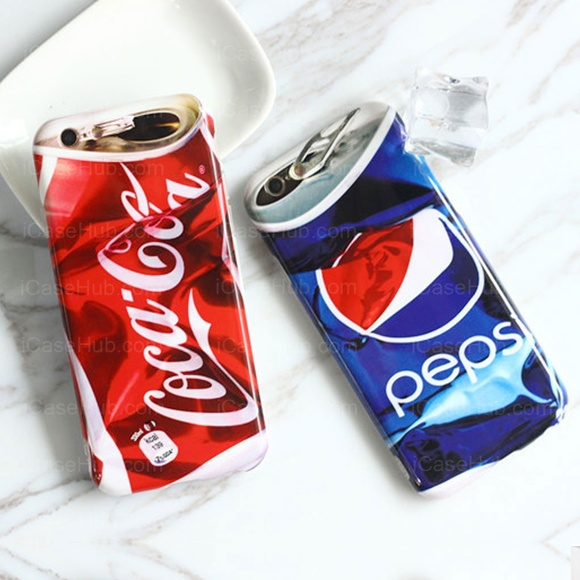can: (242, 99, 571, 500), (32, 91, 269, 500)
